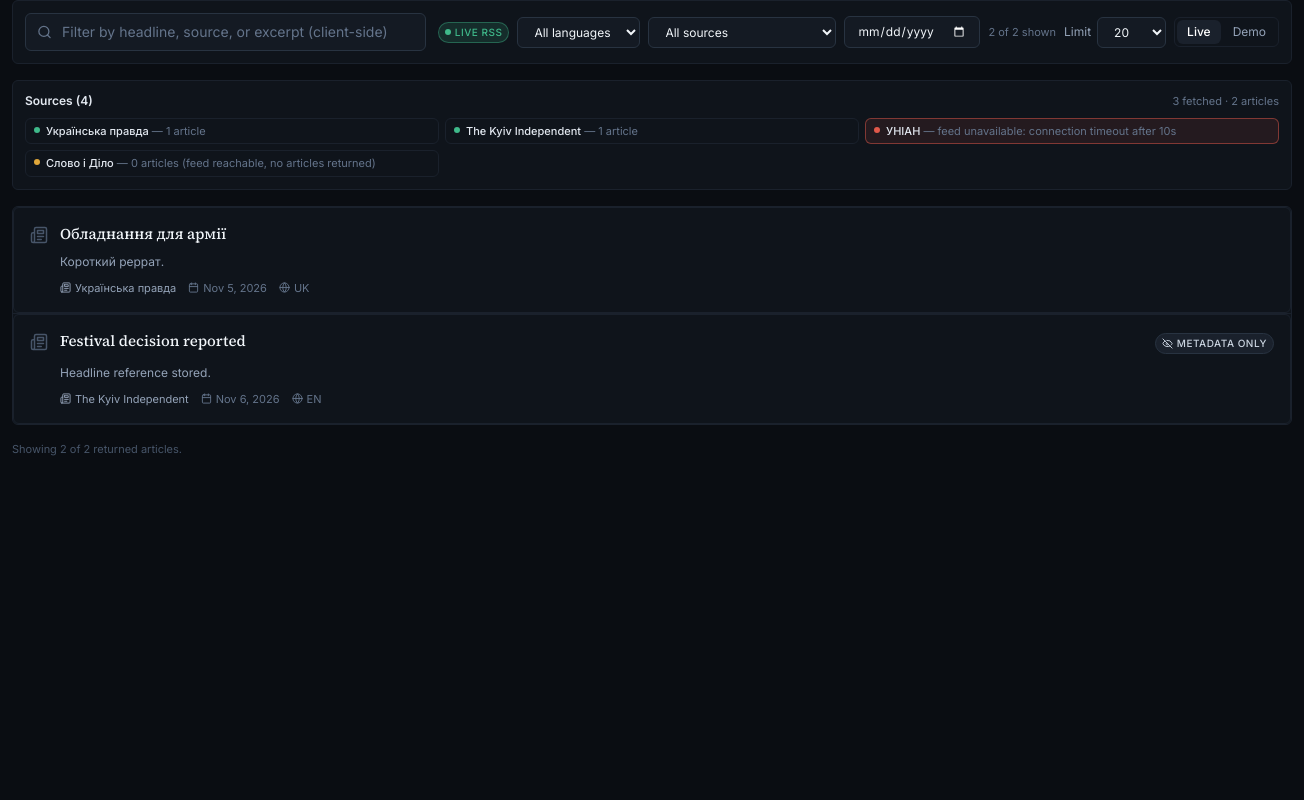
Scenario: NewsPage — Slice B source behavior › 5. the exclusion reason is visible in the detail view
Expected: the heading "Обладнання для армії" is shown, [60,224,226,244]
Click the heading "Festival decision reported". click: x=153, y=341
box: [60,331,246,352]
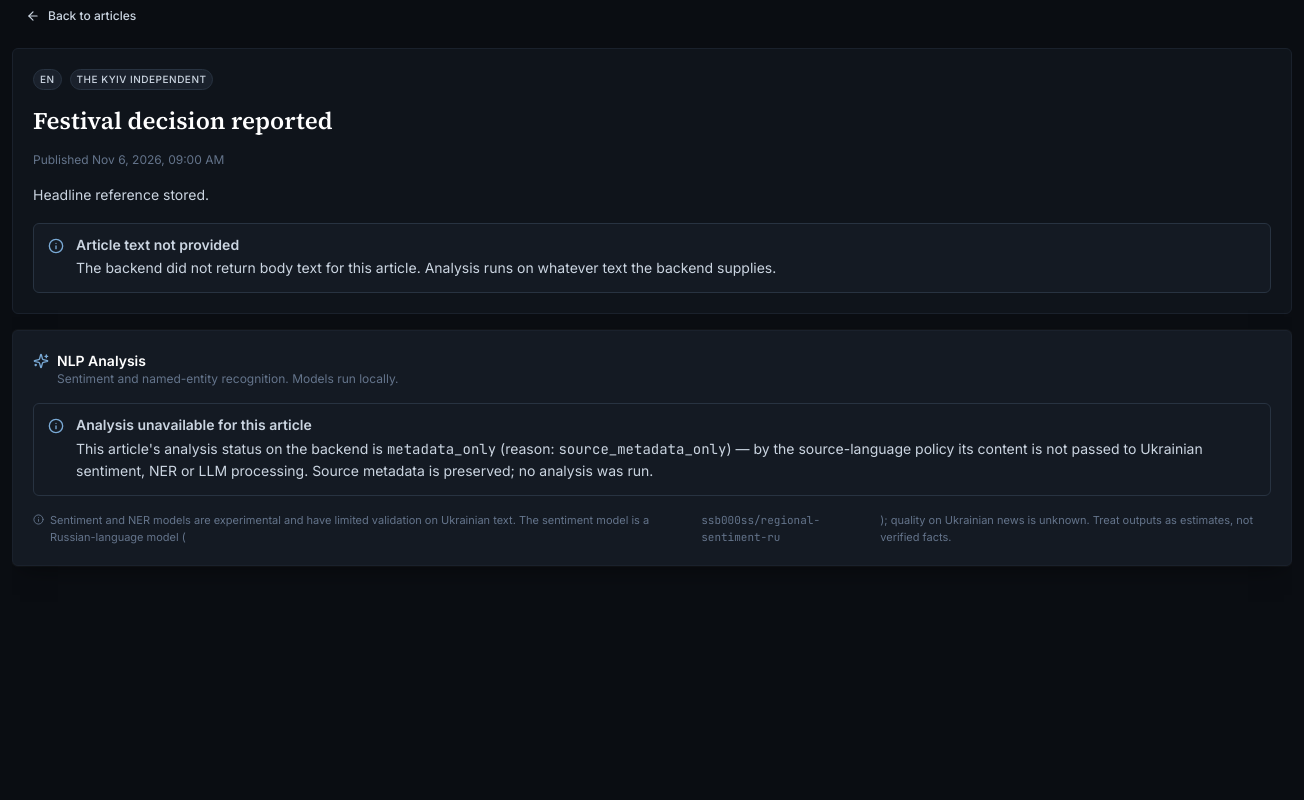
Now the text "Analysis unavailable for this article" is shown, box [76,416,312,433]
Now the text "metadata_only" is shown, box [387,440,496,458]
Now the text "source_metadata_only" is shown, box [558,440,726,458]
